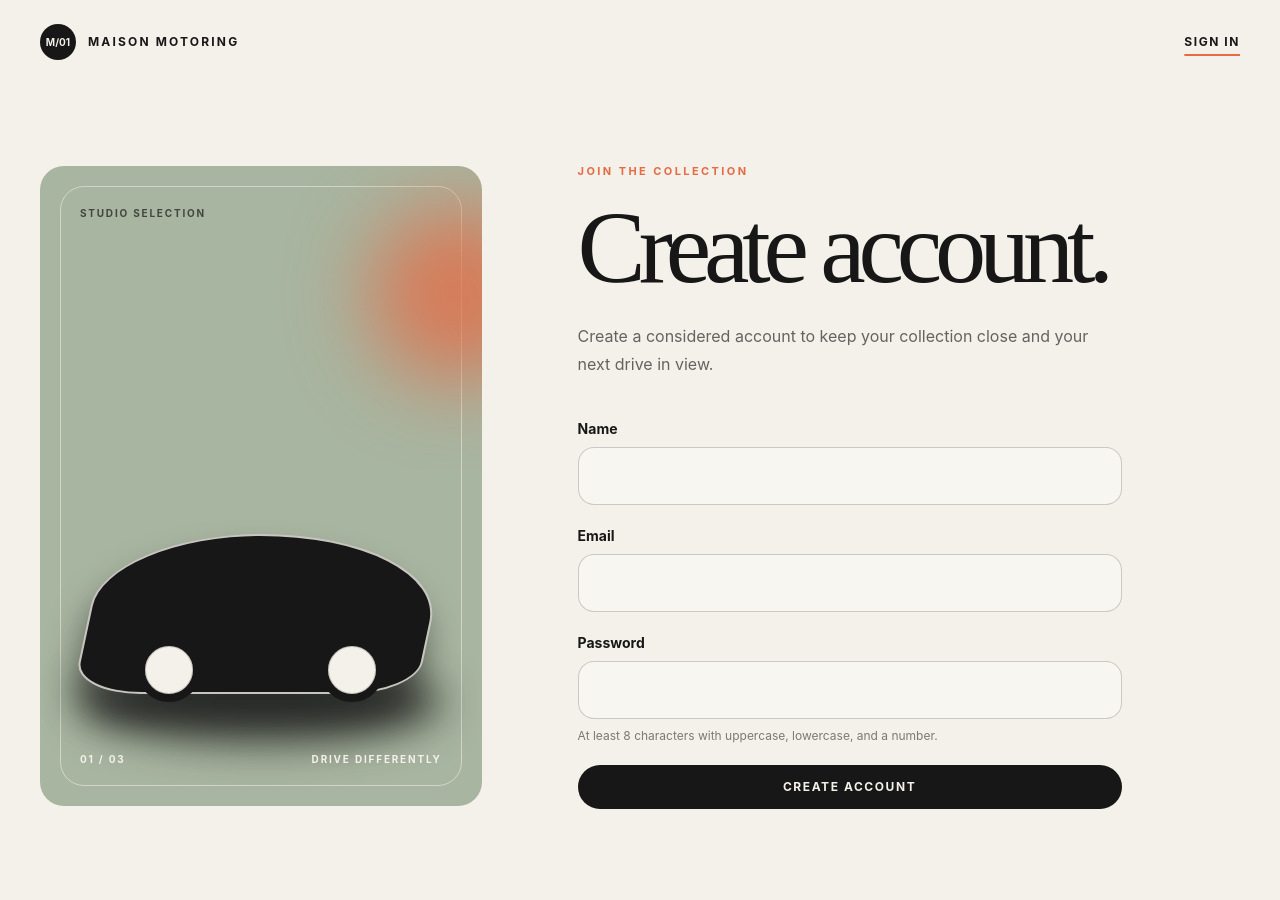
it: frontend authentication › submits registration fields to the existing registration contract
Step 1. Type "Ada Lovelace" into the field labelled "Name" → (850, 476), box [578,446,1122,504]
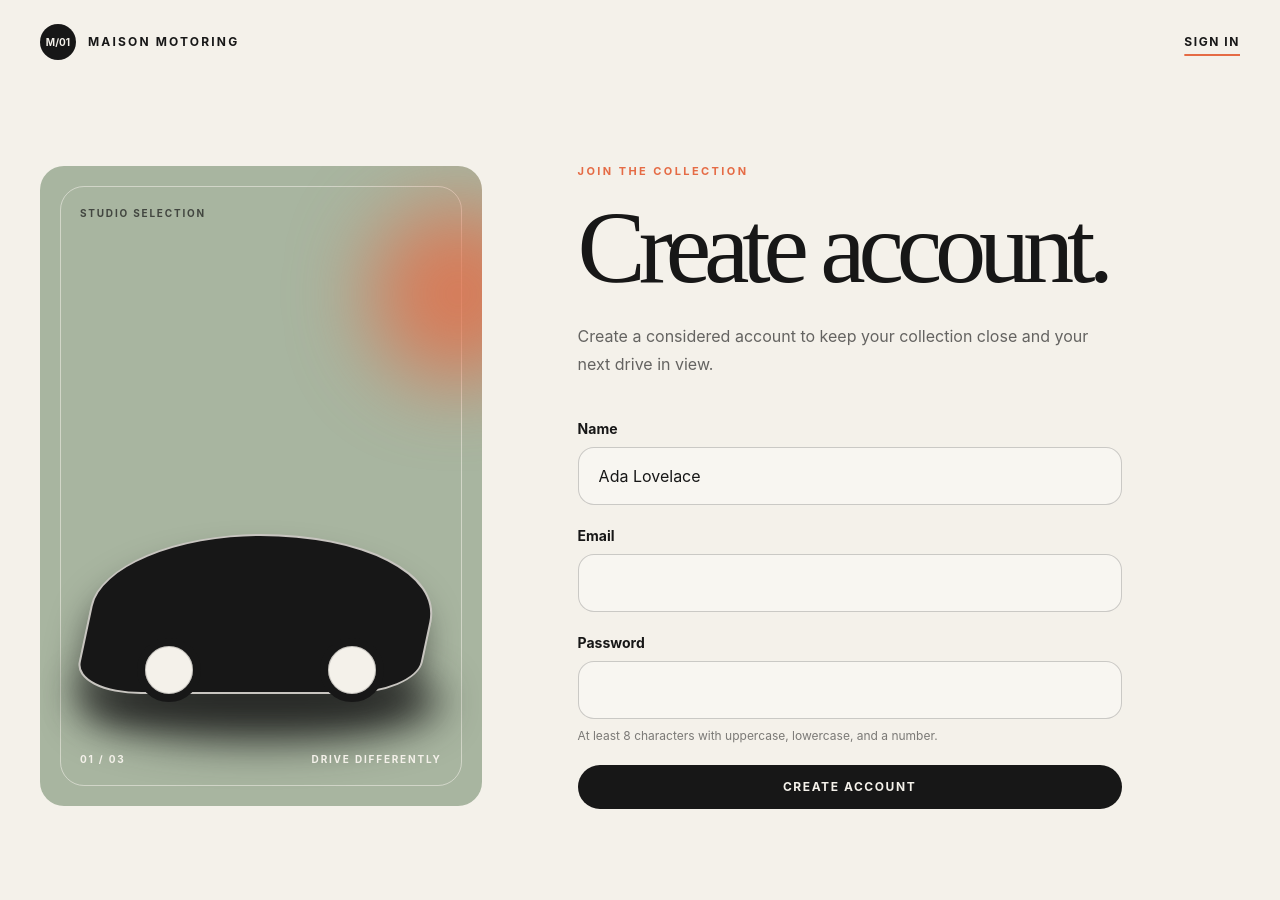
Step 2. Type "ada@example.test" into the field labelled "Email" → (850, 582), box [578,554,1122,612]
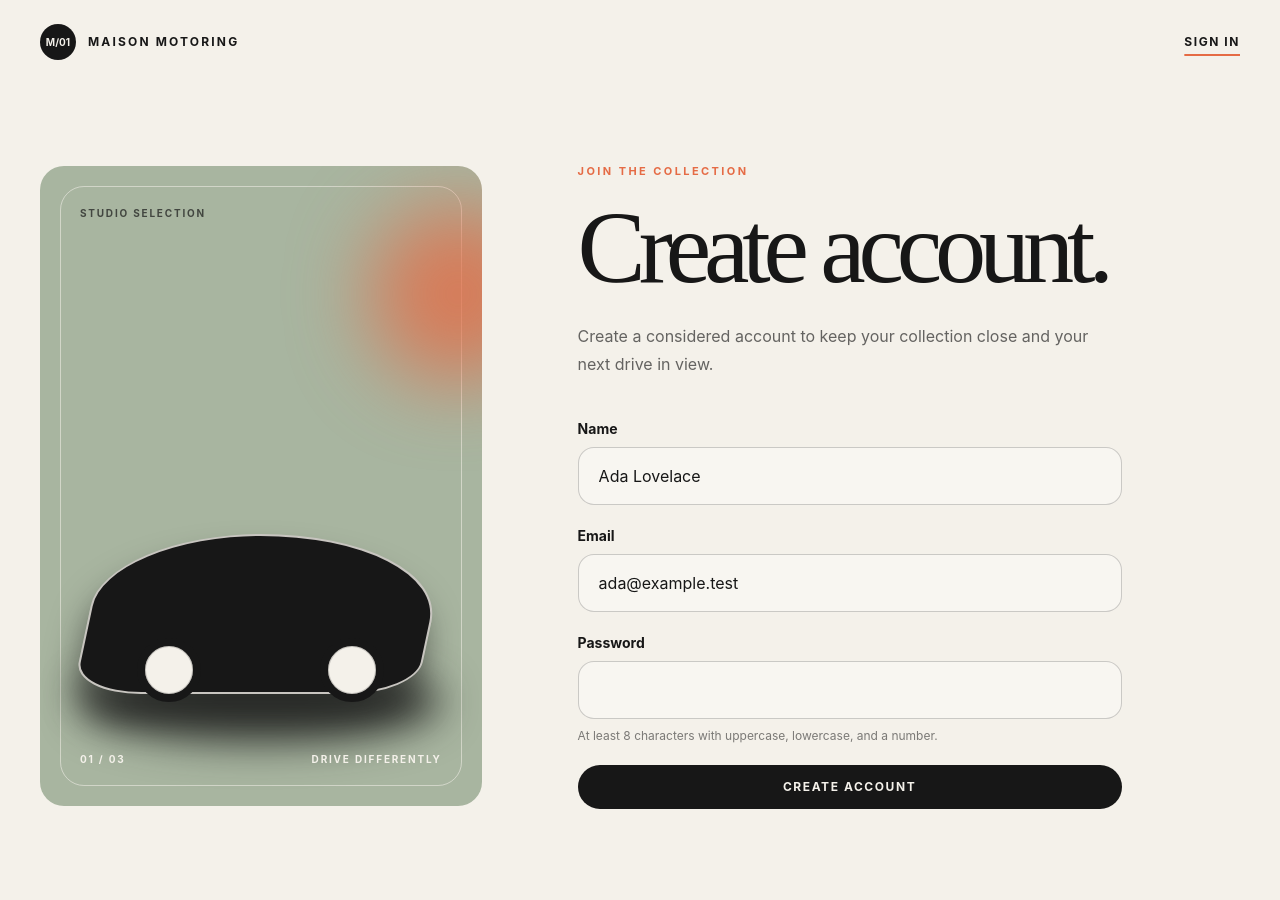
Step 3. Type "SecurePass1" into the password field labelled "Password" → (850, 690), box [578,660,1122,718]
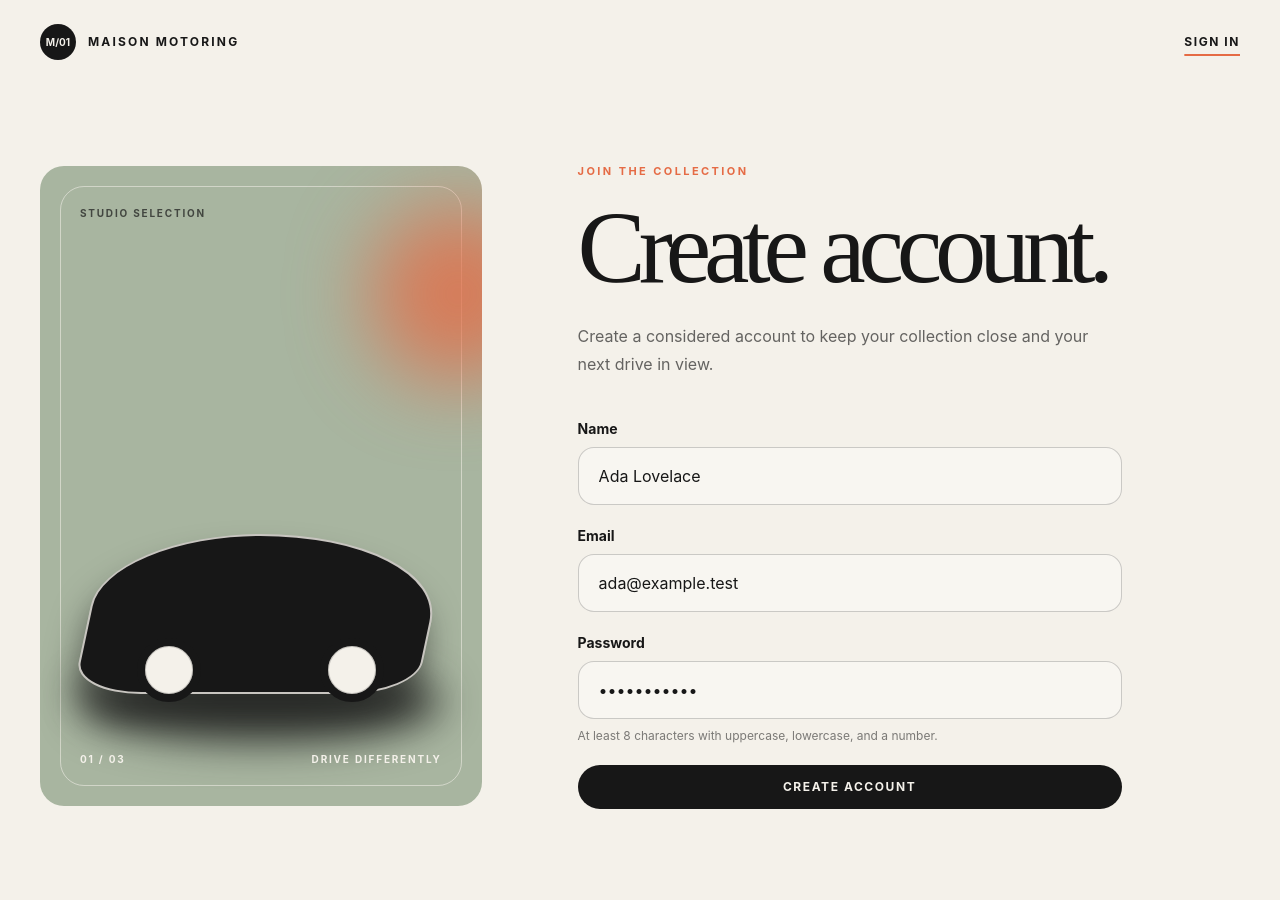
Step 4. Submit the form named "registration", box [578,418,1122,809]
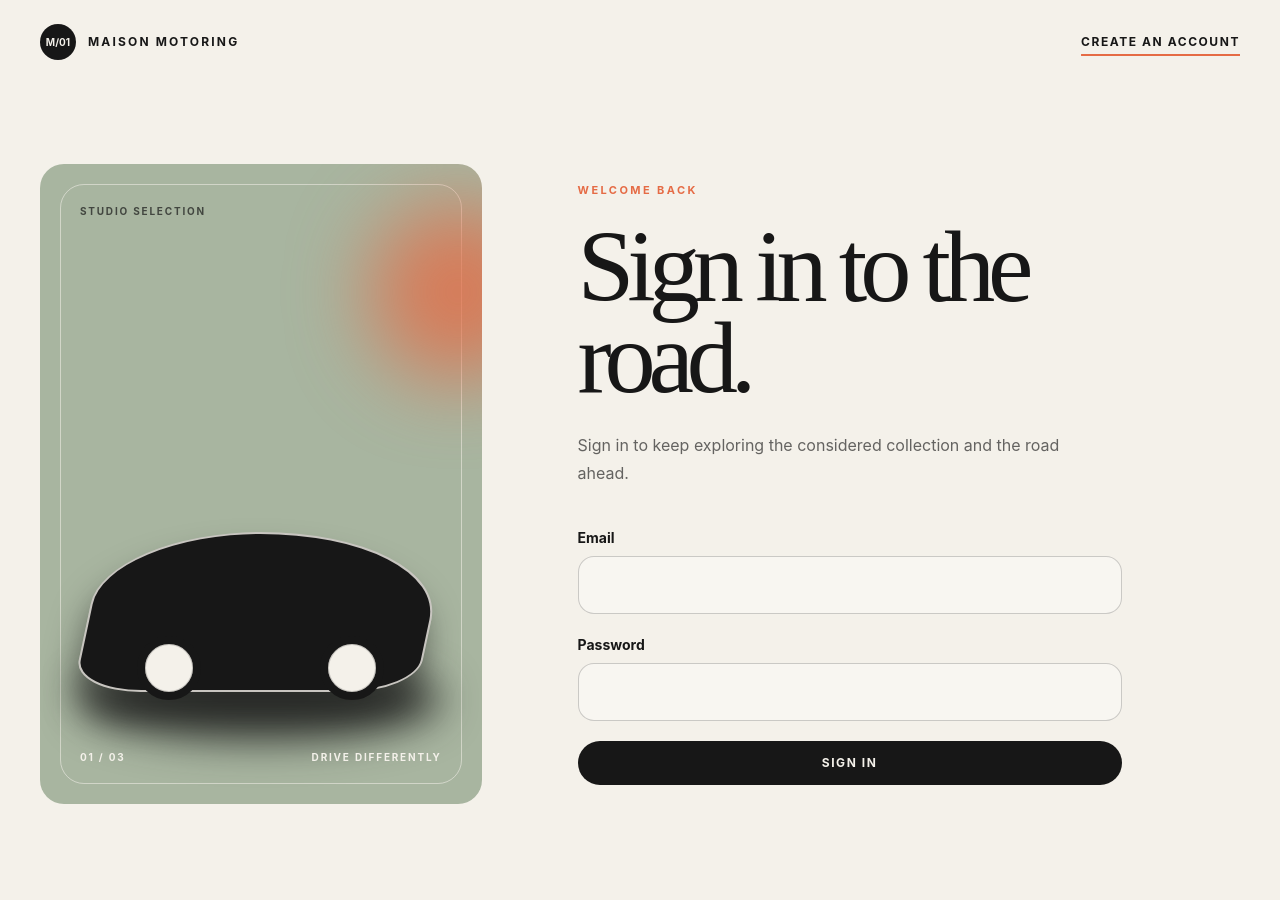
Now the heading "Sign in to the road." is shown, box [578,210,1026,414]
